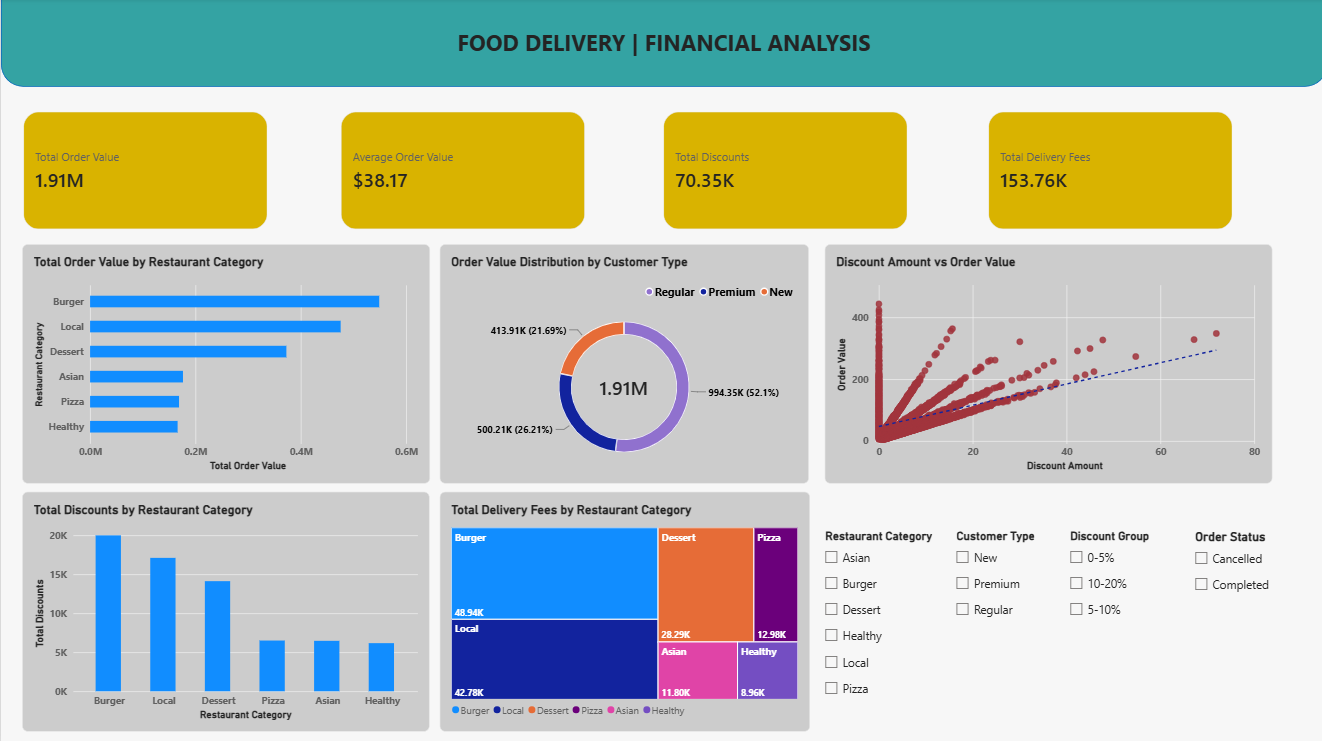

What the dashboard file says about the page in this screenshot:
{"tool":"powerbi","page":{"name":"Financial Analysis","canvas":[1920,1080],"ordinal":5},"visuals":[{"type":"shape","box":[0,0,1920.1,128.5],"z":0},{"type":"textbox","box":[0,41.6,1920.1,45.2],"z":1000},{"type":"cardVisual","fields":{"Data":["FDA.Total Order Value"]},"box":[32,164,353.3,170],"z":2000},{"type":"cardVisual","fields":{"Data":["FDA.Average Order Value"]},"box":[492,164,353.3,170],"z":3000},{"type":"cardVisual","fields":{"Data":["FDA.Total Discounts"]},"box":[960,164,353.3,170],"z":4000},{"type":"cardVisual","fields":{"Data":["FDA.Total Delivery Fees"]},"box":[1430,164,353.3,170],"z":5000},{"type":"clusteredBarChart","title":"Total Order Value by Restaurant Category","fields":{"Category":["FDA.restaurant_primary_category"],"Y":["FDA.Total Order Value"]},"box":[30,356,590,346],"z":6000},{"type":"donutChart","title":"Order Value Distribution by Customer Type","fields":{"Category":["FDA.customer_type"],"Y":["FDA.Total Order Value"]},"box":[636,356,534,346],"z":7000},{"type":"clusteredColumnChart","title":"Total Discounts by Restaurant Category","fields":{"Category":["FDA.restaurant_primary_category"],"Y":["FDA.Total Discounts"]},"box":[30.8,714.8,589.9,347.5],"z":8000},{"type":"treemap","title":"Total Delivery Fees by Restaurant Category","fields":{"Group":["FDA.restaurant_primary_category"],"Values":["FDA.Total Delivery Fees"]},"box":[635.2,714.8,535.7,347.5],"z":9000},{"type":"scatterChart","title":"Discount Amount vs Order Value","fields":{"Category":["FDA.order_id"],"X":["Sum(FDA.discount_amount)"],"Y":["Sum(FDA.order_total)"]},"box":[1192,356,648,346],"z":10000},{"type":"slicer","fields":{"Values":["FDA.restaurant_primary_category"]},"box":[1185.3,769.1,190,251.5],"z":11000},{"type":"slicer","fields":{"Values":["FDA.customer_type"]},"box":[1375.3,769.1,163.6,156.4],"z":12000},{"type":"slicer","fields":{"Values":["FDA.discount_group"]},"box":[1540,769.1,163.6,156.4],"z":13000},{"type":"slicer","fields":{"Values":["FDA.order_status"]},"box":[1721,769.1,163.6,125.5],"z":14000}]}

Visuals, with their boxes in screenshot pixels (x1, y1, x2, y2), scaled from the page's 1920x1080 canvas onto the 1322x741 screenshot:
shape: 0 0 1321 88
textbox: 0 29 1321 60
cardVisual - FDA.Total Order Value: 22 113 265 229
cardVisual - FDA.Average Order Value: 339 113 582 229
cardVisual - FDA.Total Discounts: 661 113 904 229
cardVisual - FDA.Total Delivery Fees: 985 113 1228 229
"Total Order Value by Restaurant Category" clusteredBarChart: 21 244 427 482
"Order Value Distribution by Customer Type" donutChart: 438 244 806 482
"Total Discounts by Restaurant Category" clusteredColumnChart: 21 490 427 729
"Total Delivery Fees by Restaurant Category" treemap: 437 490 806 729
"Discount Amount vs Order Value" scatterChart: 821 244 1267 482
slicer - FDA.restaurant_primary_category: 816 528 947 700
slicer - FDA.customer_type: 947 528 1060 635
slicer - FDA.discount_group: 1060 528 1173 635
slicer - FDA.order_status: 1185 528 1298 614
